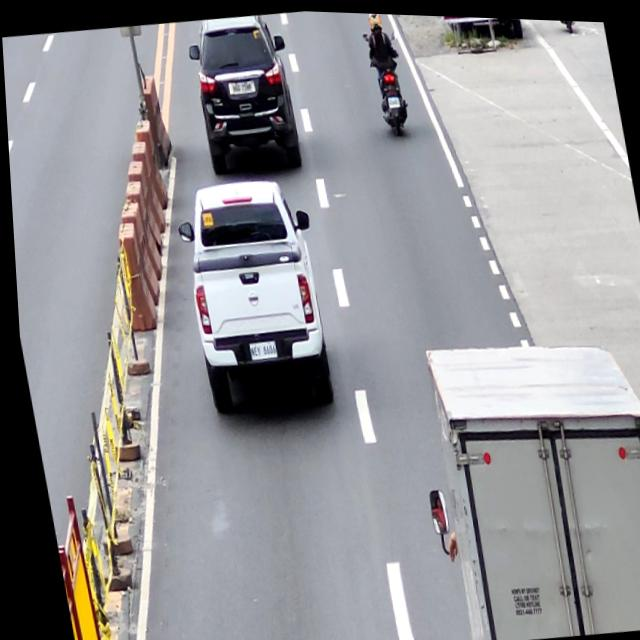Car: (168, 171, 339, 417), (183, 8, 306, 179)
License-Plate: (243, 339, 274, 359), (227, 79, 253, 95), (385, 92, 399, 105)
Motorcycle: (360, 24, 412, 132)
Truck: (395, 317, 640, 640)
